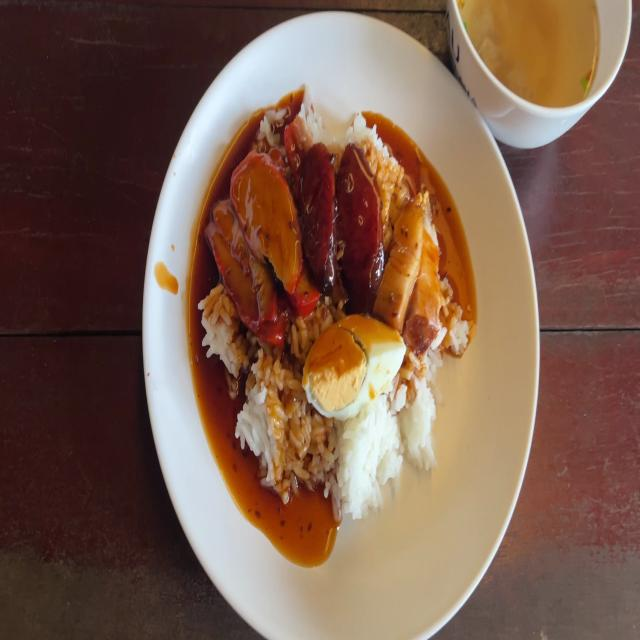red_pork_and_crispy_pork: (306, 320, 405, 413)
stir_fried_basil: (302, 144, 388, 304), (338, 147, 382, 284), (305, 150, 335, 288)
